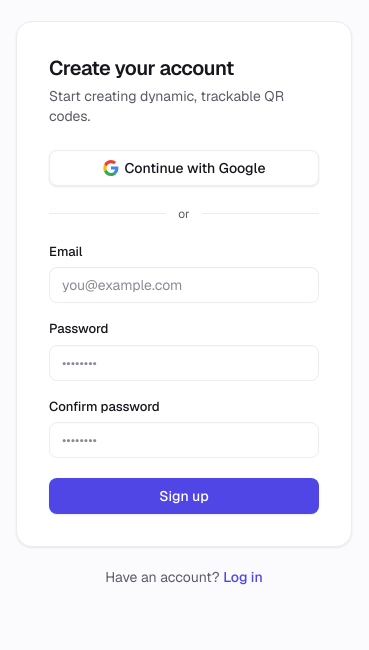
Scenario: AuthForm (signup) › shows a confirmation notice when no session is returned
Type "a@b.com" into the field labelled "Email" at (184, 285), box [49,267,319,303]
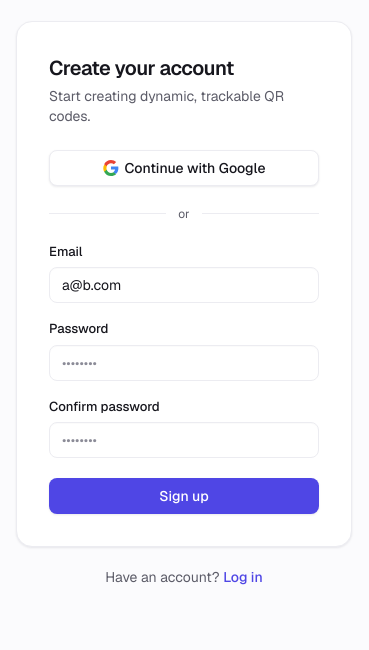
Type "secret123" into the password field labelled "Password" at (184, 363), box [49,345,319,381]
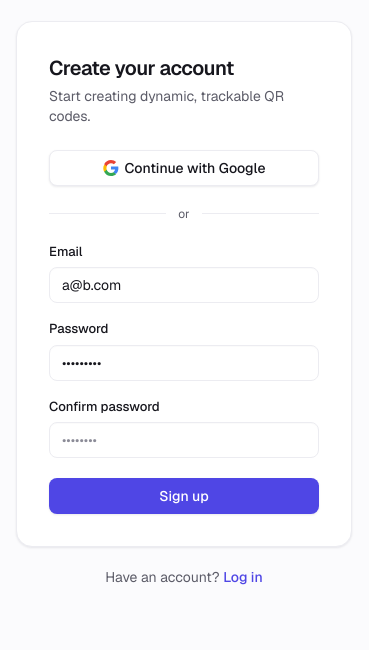
Type "secret123" into the password field labelled "Confirm password" at (184, 440), box [49,422,319,458]
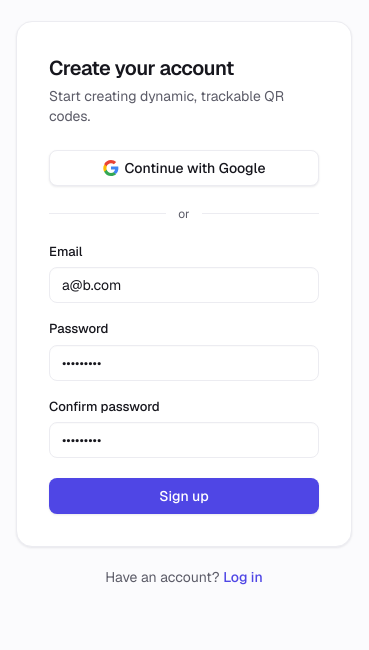
Click the button "Sign up" at (184, 496), box [49,478,319,514]
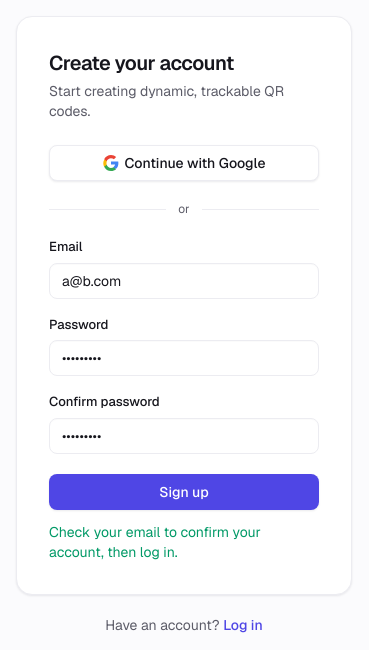
Expected: the text "Check your email to confirm your account, then log in." is shown, [49,522,261,560]
